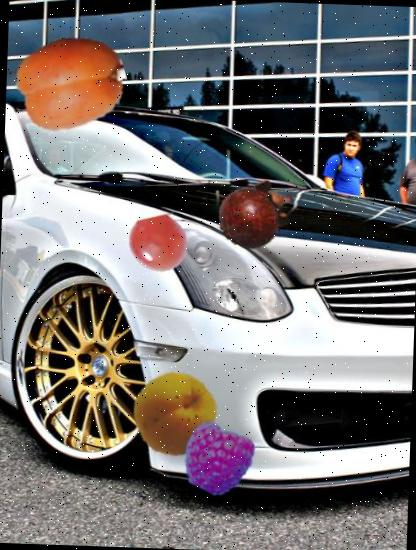Apricot: (16, 26, 127, 138)
Mangostan: (216, 172, 298, 254)
Peach: (132, 369, 220, 458)
Raspberry: (180, 424, 252, 496)
Redcurrant: (129, 214, 188, 274)
